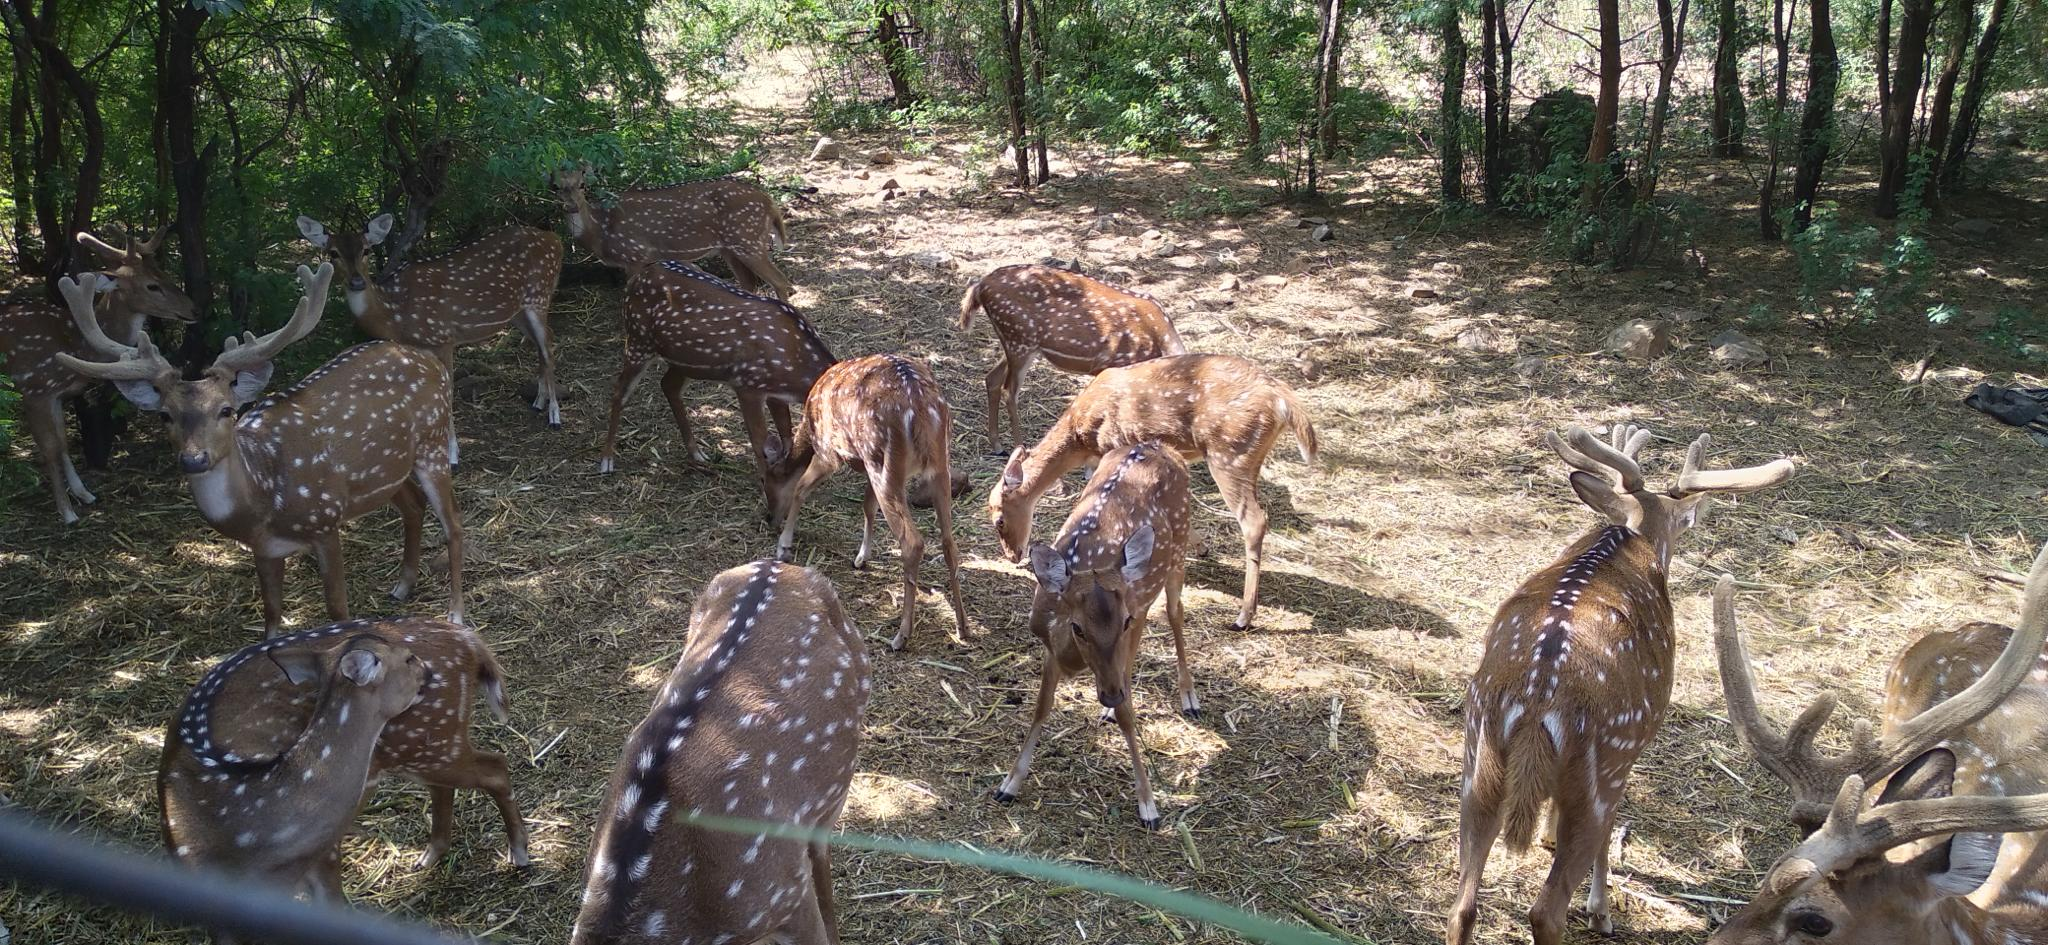Deer: (1445, 422, 1799, 944), (59, 264, 462, 634), (1711, 546, 2047, 944), (571, 559, 871, 944), (157, 616, 526, 905), (987, 352, 1319, 628), (997, 442, 1196, 824), (760, 354, 970, 649), (602, 261, 835, 519), (296, 214, 562, 426), (960, 264, 1185, 442), (556, 168, 793, 296), (76, 232, 193, 339)
